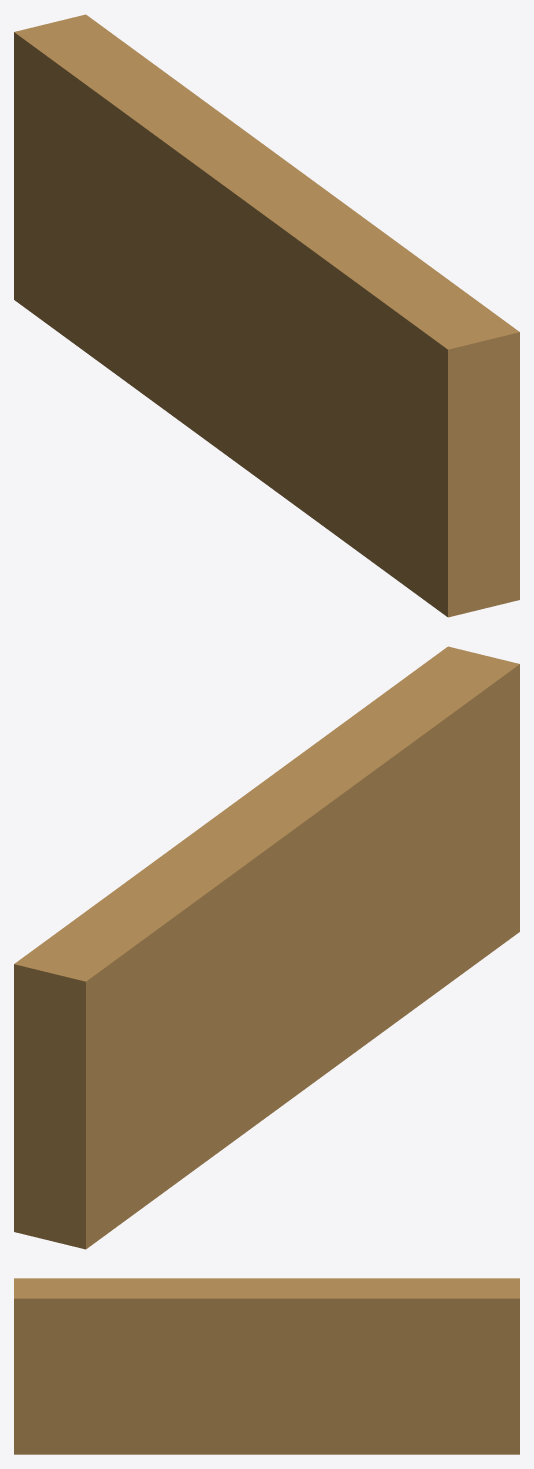
3 renders of one model, top to bottom at view 1: azimuth 30°, elevation 25°; view 2: azimuth 150°, elevation 25°; view 3: azimuth 270°, elevation 25°, orthographic. The views are drawn at different scales.
Visible parts, largest first — view 1: GAP-51-ENVELOPE; view 2: GAP-51-ENVELOPE; view 3: GAP-51-ENVELOPE.
Part boxes in pixels (x1=…): GAP-51-ENVELOPE: x1=14, y1=14, x2=519, y2=617; GAP-51-ENVELOPE: x1=14, y1=646, x2=519, y2=1249; GAP-51-ENVELOPE: x1=14, y1=1278, x2=519, y2=1454.
Size of the model in its own units: 0.09 by 0.32 by 0.94.
